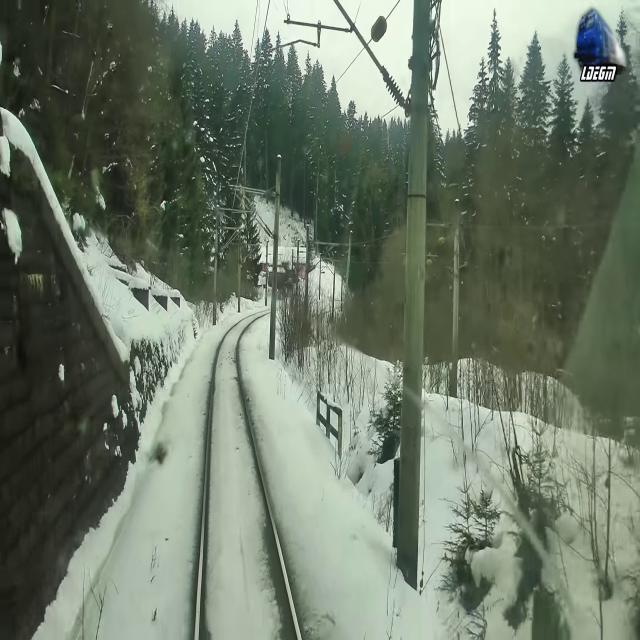rail-track: (199, 316, 296, 639)
